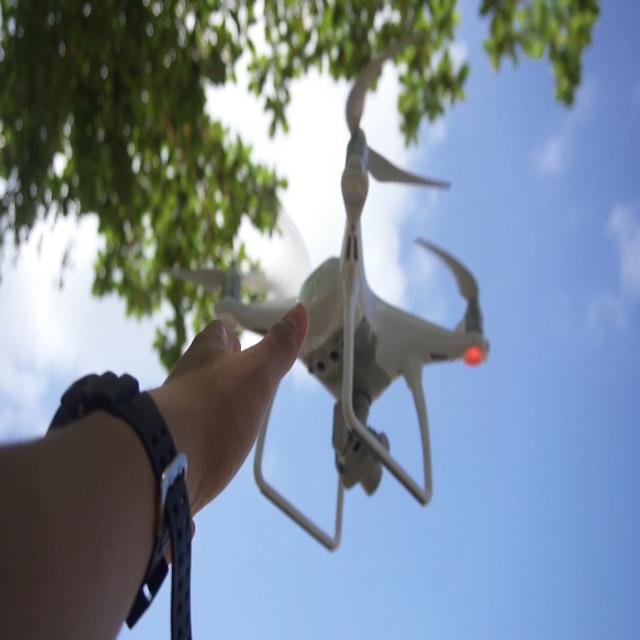Drone: (192, 101, 520, 553)
